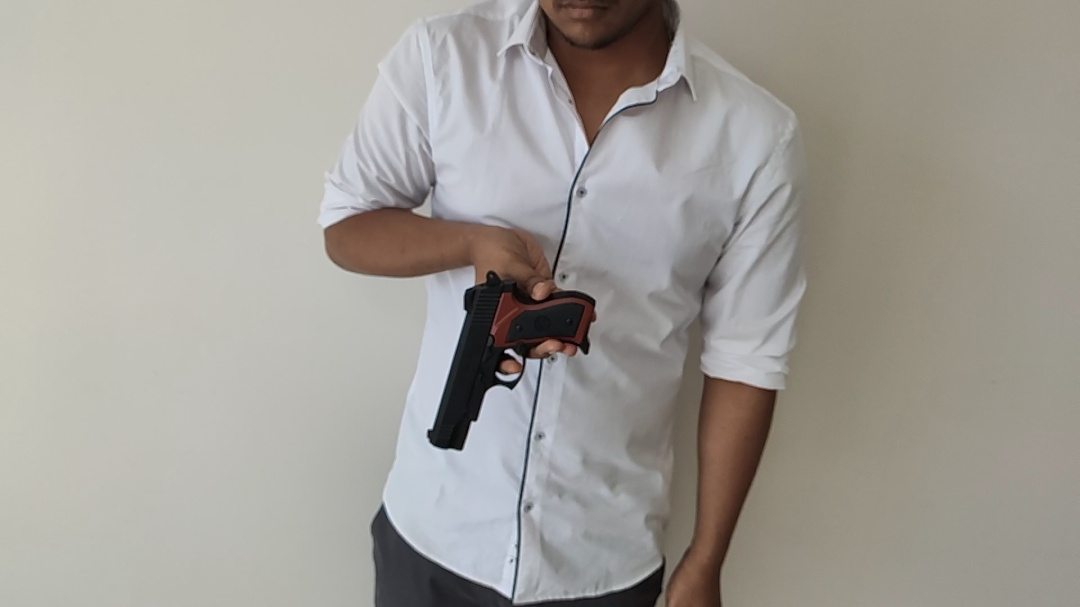gun: (426, 271, 597, 452)
